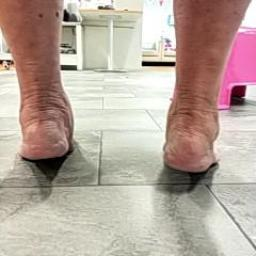Back View -Both Feet-: (5, 48, 241, 188)
